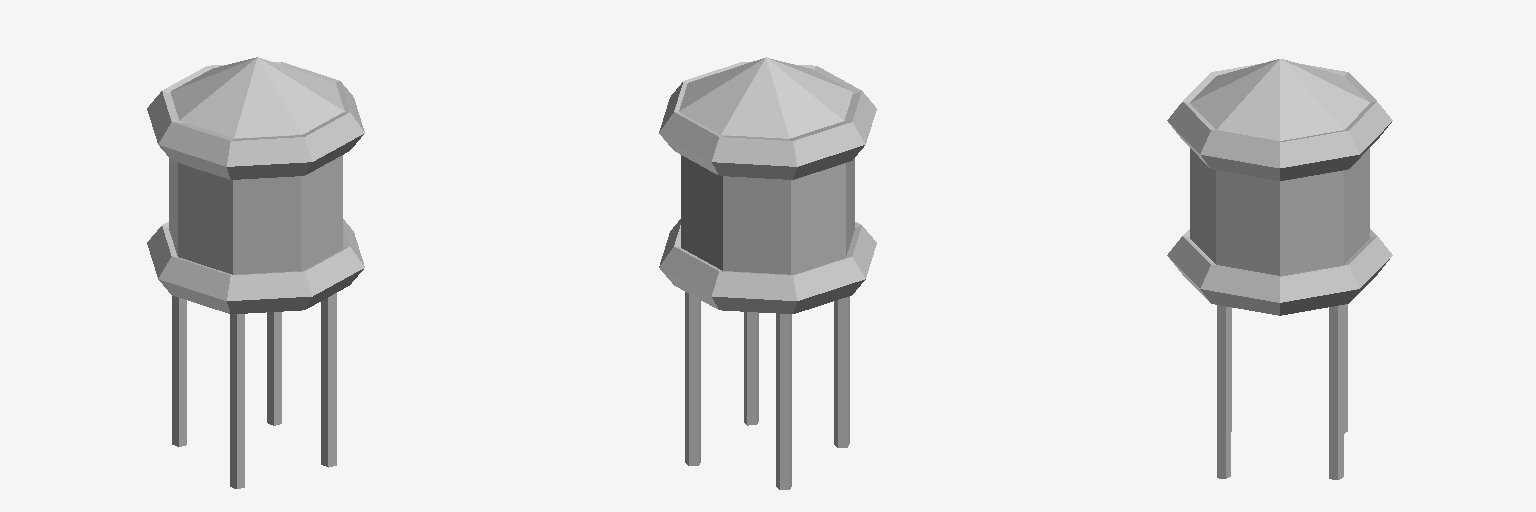
Rendered from water_tower_lo.obj.
The picture shows the model from 3 angles: view 1: azimuth 30°, elevation 25°; view 2: azimuth 150°, elevation 25°; view 3: azimuth 270°, elevation 25°; orthographic projection.
Visible parts, largest first — view 1: Cylinder, Cone, Torus.001, Torus, Cylinder.001, Cylinder.004, Cylinder.003, Cylinder.002; view 2: Cylinder, Cone, Torus.001, Torus, Cylinder.003, Cylinder.002, Cylinder.004, Cylinder.001; view 3: Cylinder, Cone, Torus.001, Torus, Cylinder.002, Cylinder.001.
Boxes of the visible parts, x1,y1,x2,y2 form: Cylinder: [169, 135, 342, 274]; Cone: [170, 57, 344, 138]; Torus.001: [147, 62, 364, 179]; Torus: [147, 219, 364, 313]; Cylinder.001: [321, 293, 336, 467]; Cylinder.004: [230, 314, 244, 488]; Cylinder.003: [172, 296, 186, 446]; Cylinder.002: [267, 312, 281, 425]; Cylinder: [681, 135, 854, 274]; Cone: [679, 57, 852, 138]; Torus.001: [659, 62, 876, 179]; Torus: [659, 219, 876, 313]; Cylinder.003: [776, 314, 791, 489]; Cylinder.002: [685, 292, 700, 465]; Cylinder.004: [834, 296, 849, 447]; Cylinder.001: [744, 312, 758, 425]; Cylinder: [1190, 148, 1369, 275]; Cone: [1190, 59, 1369, 140]; Torus.001: [1167, 63, 1392, 180]; Torus: [1167, 229, 1392, 315]; Cylinder.002: [1329, 305, 1343, 479]; Cylinder.001: [1217, 305, 1230, 478].
Size of the model in its own units: 2.5 by 4.84 by 2.5.